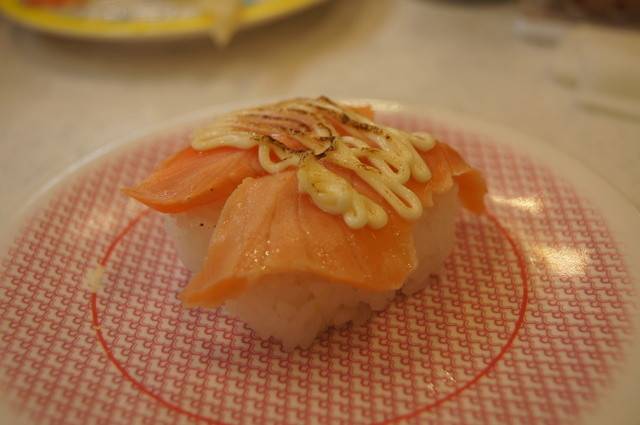salmon: (210, 141, 474, 332)
